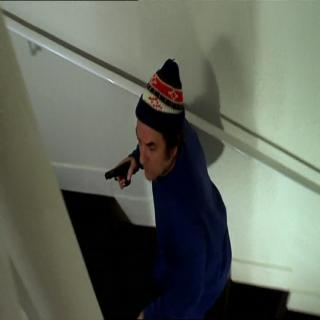gun: (101, 157, 132, 189)
